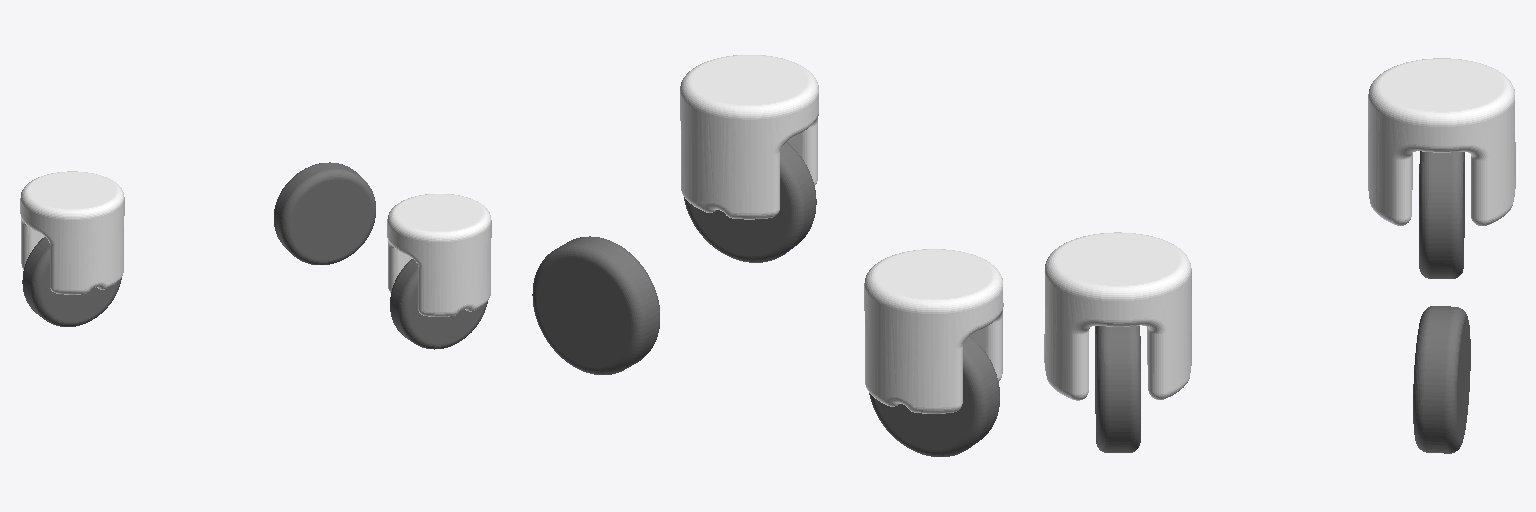
The robot description file, URDF, robot "rACTor_Simplified_Model":
<?xml version="1.0" encoding="utf-8"?>
<!-- This URDF was automatically created by SolidWorks to URDF Exporter! Originally created by [author] ([email redacted]) 
     Commit Version: 1.6.0-4-g7f85cfe  Build Version: 1.6.7995.38578
     For more information, please see http://wiki.ros.org/sw_urdf_exporter -->
<robot
  name="rACTor_Simplified_Model">
  <link
    name="base_link">
    <inertial>
      <origin
        xyz="3.1711E-17 -1.9537E-16 0.5567"
        rpy="0 0 0" />
      <mass
        value="100" />
      <inertia
        ixx="47.985"
        ixy="-1.3171E-15"
        ixz="-4.9239E-15"
        iyy="57.828"
        iyz="1.4041E-15"
        izz="61.593" />
    </inertial>
    <visual>
      <origin
        xyz="0 0 0"
        rpy="0 0 0" />
      <geometry>
        <mesh
          filename="package://schoolbus_description/meshes/visual/base_link.STL" />
      </geometry>
      <material
        name="">
        <color
          rgba="1 1 0 0.5" />
      </material>
    </visual>
    <collision>
      <origin
        xyz="0 0 0"
        rpy="0 0 0" />
      <geometry>
        <mesh
          filename="package://schoolbus_description/meshes/visual/base_link.STL" />
      </geometry>
    </collision>
  </link>
  <link
    name="fl_steering_link">
    <inertial>
      <origin
        xyz="1.0285E-07 1.5412E-07 -0.092579"
        rpy="0 0 0" />
      <mass
        value="7.3876" />
      <inertia
        ixx="0.072415"
        ixy="-9.3088E-07"
        ixz="2.1936E-08"
        iyy="0.055257"
        iyz="6.4073E-08"
        izz="0.065566" />
    </inertial>
    <visual>
      <origin
        xyz="0 0 0"
        rpy="0 0 0" />
      <geometry>
        <mesh
          filename="package://schoolbus_description/meshes/visual/fl_steering_link.STL" />
      </geometry>
      <material
        name="">
        <color
          rgba="1 1 1 1" />
      </material>
    </visual>
    <collision>
      <origin
        xyz="0 0 0"
        rpy="0 0 0" />
      <geometry>
        <mesh
          filename="package://schoolbus_description/meshes/visual/fl_steering_link.STL" />
      </geometry>
    </collision>
  </link>
  <joint
    name="fl_steering"
    type="revolute">
    <origin
      xyz="0.3556 0.2794 0.3556"
      rpy="0 0 -0.11117" />
    <parent
      link="base_link" />
    <child
      link="fl_steering_link" />
    <axis
      xyz="0 0 -1" />
    <limit
      lower="-1.5708"
      upper="1.5708"
      effort="6"
      velocity="1.5" />
    <dynamics
      damping="0.1"
      friction="1" />
  </joint>
  <link
    name="fl_wheel_link">
    <inertial>
      <origin
        xyz="0 0 0"
        rpy="0 0 0" />
      <mass
        value="3.7289" />
      <inertia
        ixx="0.016291"
        ixy="-4.8148E-34"
        ixz="0"
        iyy="0.016291"
        iyz="4.8148E-35"
        izz="0.029148" />
    </inertial>
    <visual>
      <origin
        xyz="0 0 0"
        rpy="0 0 0" />
      <geometry>
        <mesh
          filename="package://schoolbus_description/meshes/visual/fl_wheel_link.STL" />
      </geometry>
      <material
        name="">
        <color
          rgba="0.50196 0.50196 0.50196 1" />
      </material>
    </visual>
    <collision>
      <origin
        xyz="0 0 0"
        rpy="0 0 0" />
      <geometry>
        <mesh
          filename="package://schoolbus_description/meshes/visual/fl_wheel_link.STL" />
      </geometry>
    </collision>
  </link>
  <joint
    name="fl_wheel"
    type="continuous">
    <origin
      xyz="0 0 -0.2286"
      rpy="-1.5708 0 0" />
    <parent
      link="fl_steering_link" />
    <child
      link="fl_wheel_link" />
    <axis
      xyz="0 0 -1" />
    <limit
      effort="14"
      velocity="35" />
    <dynamics
      damping="0.1"
      friction="1" />
  </joint>
  <link
    name="fr_steering_link">
    <inertial>
      <origin
        xyz="-7.9134E-08 -1.3959E-07 -0.092579"
        rpy="0 0 0" />
      <mass
        value="7.3876" />
      <inertia
        ixx="0.072415"
        ixy="-9.3088E-07"
        ixz="-2.1936E-08"
        iyy="0.055257"
        iyz="-6.4073E-08"
        izz="0.065566" />
    </inertial>
    <visual>
      <origin
        xyz="0 0 0"
        rpy="0 0 0" />
      <geometry>
        <mesh
          filename="package://schoolbus_description/meshes/visual/fr_steering_link.STL" />
      </geometry>
      <material
        name="">
        <color
          rgba="1 1 1 1" />
      </material>
    </visual>
    <collision>
      <origin
        xyz="0 0 0"
        rpy="0 0 0" />
      <geometry>
        <mesh
          filename="package://schoolbus_description/meshes/visual/fr_steering_link.STL" />
      </geometry>
    </collision>
  </link>
  <joint
    name="fr_steering"
    type="revolute">
    <origin
      xyz="0.3556 -0.2794 0.3556"
      rpy="0 0 0.015531" />
    <parent
      link="base_link" />
    <child
      link="fr_steering_link" />
    <axis
      xyz="0 0 -1" />
    <limit
      lower="-1.5708"
      upper="1.5708"
      effort="6"
      velocity="1.5" />
    <dynamics
      damping="0.1"
      friction="1" />
  </joint>
  <link
    name="fr_wheel_link">
    <inertial>
      <origin
        xyz="-5.5511E-17 0 5.5511E-17"
        rpy="0 0 0" />
      <mass
        value="3.7289" />
      <inertia
        ixx="0.016291"
        ixy="-5.7799E-37"
        ixz="-4.8789E-19"
        iyy="0.016291"
        iyz="-6.2097E-36"
        izz="0.029148" />
    </inertial>
    <visual>
      <origin
        xyz="0 0 0"
        rpy="0 0 0" />
      <geometry>
        <mesh
          filename="package://schoolbus_description/meshes/visual/fr_wheel_link.STL" />
      </geometry>
      <material
        name="">
        <color
          rgba="0.50196 0.50196 0.50196 1" />
      </material>
    </visual>
    <collision>
      <origin
        xyz="0 0 0"
        rpy="0 0 0" />
      <geometry>
        <mesh
          filename="package://schoolbus_description/meshes/visual/fr_wheel_link.STL" />
      </geometry>
    </collision>
  </link>
  <joint
    name="fr_wheel"
    type="continuous">
    <origin
      xyz="0 0 -0.2286"
      rpy="-1.5708 0 0" />
    <parent
      link="fr_steering_link" />
    <child
      link="fr_wheel_link" />
    <axis
      xyz="0 0 1" />
    <limit
      effort="14"
      velocity="35" />
    <dynamics
      damping="0.1"
      friction="1" />
  </joint>
  <link
    name="bl_steering_link">
    <inertial>
      <origin
        xyz="-7.9134E-08 -1.3959E-07 -0.092579"
        rpy="0 0 0" />
      <mass
        value="7.3876" />
      <inertia
        ixx="0.072415"
        ixy="-9.3088E-07"
        ixz="-2.1936E-08"
        iyy="0.055257"
        iyz="-6.4073E-08"
        izz="0.065566" />
    </inertial>
    <visual>
      <origin
        xyz="0 0 0"
        rpy="0 0 0" />
      <geometry>
        <mesh
          filename="package://schoolbus_description/meshes/visual/bl_steering_link.STL" />
      </geometry>
      <material
        name="">
        <color
          rgba="1 1 1 1" />
      </material>
    </visual>
    <collision>
      <origin
        xyz="0 0 0"
        rpy="0 0 0" />
      <geometry>
        <mesh
          filename="package://schoolbus_description/meshes/visual/bl_steering_link.STL" />
      </geometry>
    </collision>
  </link>
  <joint
    name="bl_steering"
    type="revolute">
    <origin
      xyz="-0.3556 0.2794 0.3556"
      rpy="0 0 -0.01447" />
    <parent
      link="base_link" />
    <child
      link="bl_steering_link" />
    <axis
      xyz="0 0 -1" />
    <limit
      lower="-1.5708"
      upper="1.5708"
      effort="6"
      velocity="1.5" />
    <dynamics
      damping="0.1"
      friction="1" />
  </joint>
  <link
    name="bl_wheel_link">
    <inertial>
      <origin
        xyz="5.5511E-17 0 -5.5511E-17"
        rpy="0 0 0" />
      <mass
        value="3.7289" />
      <inertia
        ixx="0.016291"
        ixy="2.0463E-34"
        ixz="-5.2855E-19"
        iyy="0.016291"
        iyz="-1.6525E-19"
        izz="0.029148" />
    </inertial>
    <visual>
      <origin
        xyz="0 0 0"
        rpy="0 0 0" />
      <geometry>
        <mesh
          filename="package://schoolbus_description/meshes/visual/bl_wheel_link.STL" />
      </geometry>
      <material
        name="">
        <color
          rgba="0.50196 0.50196 0.50196 1" />
      </material>
    </visual>
    <collision>
      <origin
        xyz="0 0 0"
        rpy="0 0 0" />
      <geometry>
        <mesh
          filename="package://schoolbus_description/meshes/visual/bl_wheel_link.STL" />
      </geometry>
    </collision>
  </link>
  <joint
    name="bl_wheel"
    type="continuous">
    <origin
      xyz="0 0 -0.2286"
      rpy="-1.5708 0 0" />
    <parent
      link="bl_steering_link" />
    <child
      link="bl_wheel_link" />
    <axis
      xyz="0 0 1" />
    <limit
      effort="14"
      velocity="35" />
    <dynamics
      damping="0.1"
      friction="1" />
  </joint>
  <link
    name="br_steering_link">
    <inertial>
      <origin
        xyz="-1.0285E-07 -1.5412E-07 -0.092579"
        rpy="0 0 0" />
      <mass
        value="7.3876" />
      <inertia
        ixx="0.072415"
        ixy="-9.3088E-07"
        ixz="-2.1936E-08"
        iyy="0.055257"
        iyz="-6.4073E-08"
        izz="0.065566" />
    </inertial>
    <visual>
      <origin
        xyz="0 0 0"
        rpy="0 0 0" />
      <geometry>
        <mesh
          filename="package://schoolbus_description/meshes/visual/br_steering_link.STL" />
      </geometry>
      <material
        name="">
        <color
          rgba="1 1 1 1" />
      </material>
    </visual>
    <collision>
      <origin
        xyz="0 0 0"
        rpy="0 0 0" />
      <geometry>
        <mesh
          filename="package://schoolbus_description/meshes/visual/br_steering_link.STL" />
      </geometry>
    </collision>
  </link>
  <joint
    name="br_steering"
    type="revolute">
    <origin
      xyz="-0.3556 -0.2794 0.3556"
      rpy="0 0 -0.22923" />
    <parent
      link="base_link" />
    <child
      link="br_steering_link" />
    <axis
      xyz="0 0 -1" />
    <limit
      lower="-1.5708"
      upper="1.5708"
      effort="6"
      velocity="1.5" />
    <dynamics
      damping="0.1"
      friction="1" />
  </joint>
  <link
    name="br_wheel_link">
    <inertial>
      <origin
        xyz="0 0 5.5511E-17"
        rpy="0 0 0" />
      <mass
        value="3.7289" />
      <inertia
        ixx="0.016291"
        ixy="1.4355E-33"
        ixz="0"
        iyy="0.016291"
        iyz="8.9232E-35"
        izz="0.029148" />
    </inertial>
    <visual>
      <origin
        xyz="0 0 0"
        rpy="0 0 0" />
      <geometry>
        <mesh
          filename="package://schoolbus_description/meshes/visual/br_wheel_link.STL" />
      </geometry>
      <material
        name="">
        <color
          rgba="0.50196 0.50196 0.50196 1" />
      </material>
    </visual>
    <collision>
      <origin
        xyz="0 0 0"
        rpy="0 0 0" />
      <geometry>
        <mesh
          filename="package://schoolbus_description/meshes/visual/br_wheel_link.STL" />
      </geometry>
    </collision>
  </link>
  <joint
    name="br_wheel"
    type="continuous">
    <origin
      xyz="0 0 -0.2286"
      rpy="-1.5708 0 0" />
    <parent
      link="br_steering_link" />
    <child
      link="br_wheel_link" />
    <axis
      xyz="0 0 1" />
    <limit
      effort="14"
      velocity="35" />
    <dynamics
      damping="0.1"
      friction="1" />
  </joint>
</robot>

--- Render facts (derived) ---
The picture shows the robot from 3 angles, left to right: view 1: azimuth 30°, elevation 25°; view 2: azimuth 150°, elevation 25°; view 3: azimuth 270°, elevation 25°; orthographic projection.
Model rACTor_Simplified_Model with 9 links and 8 joints (4 revolute, 4 continuous), rooted at base_link, posed all joints at 0.
Links seen in each view (by area): view 1: bl_steering_link, fr_steering_link, fl_wheel_link, bl_wheel_link, fr_wheel_link; view 2: bl_steering_link, fr_steering_link, fl_wheel_link, fr_wheel_link, bl_wheel_link; view 3: bl_steering_link, fr_steering_link, fl_wheel_link, fr_wheel_link, bl_wheel_link.
Boxes of the visible links, box(x1,y1,x2,y2) form: bl_steering_link: box(20, 171, 124, 294); fr_steering_link: box(387, 194, 491, 316); fl_wheel_link: box(274, 162, 375, 264); bl_wheel_link: box(22, 237, 121, 326); fr_wheel_link: box(390, 259, 487, 349); bl_steering_link: box(864, 249, 1003, 413); fr_steering_link: box(680, 55, 818, 219); fl_wheel_link: box(532, 236, 659, 374); fr_wheel_link: box(684, 142, 816, 262); bl_wheel_link: box(869, 336, 999, 456); bl_steering_link: box(1368, 58, 1515, 225); fr_steering_link: box(1044, 232, 1191, 400); fl_wheel_link: box(1413, 306, 1470, 453); fr_wheel_link: box(1095, 326, 1140, 452); bl_wheel_link: box(1419, 151, 1464, 278).
Size in the robot's own frame: 0.9668 by 0.8128 by 0.3556 metres.
Meshes: 9 distinct files referenced, 5 mesh visuals loaded (5 binary STL); not drawn: 4 (reference not matched to a file when rendering).